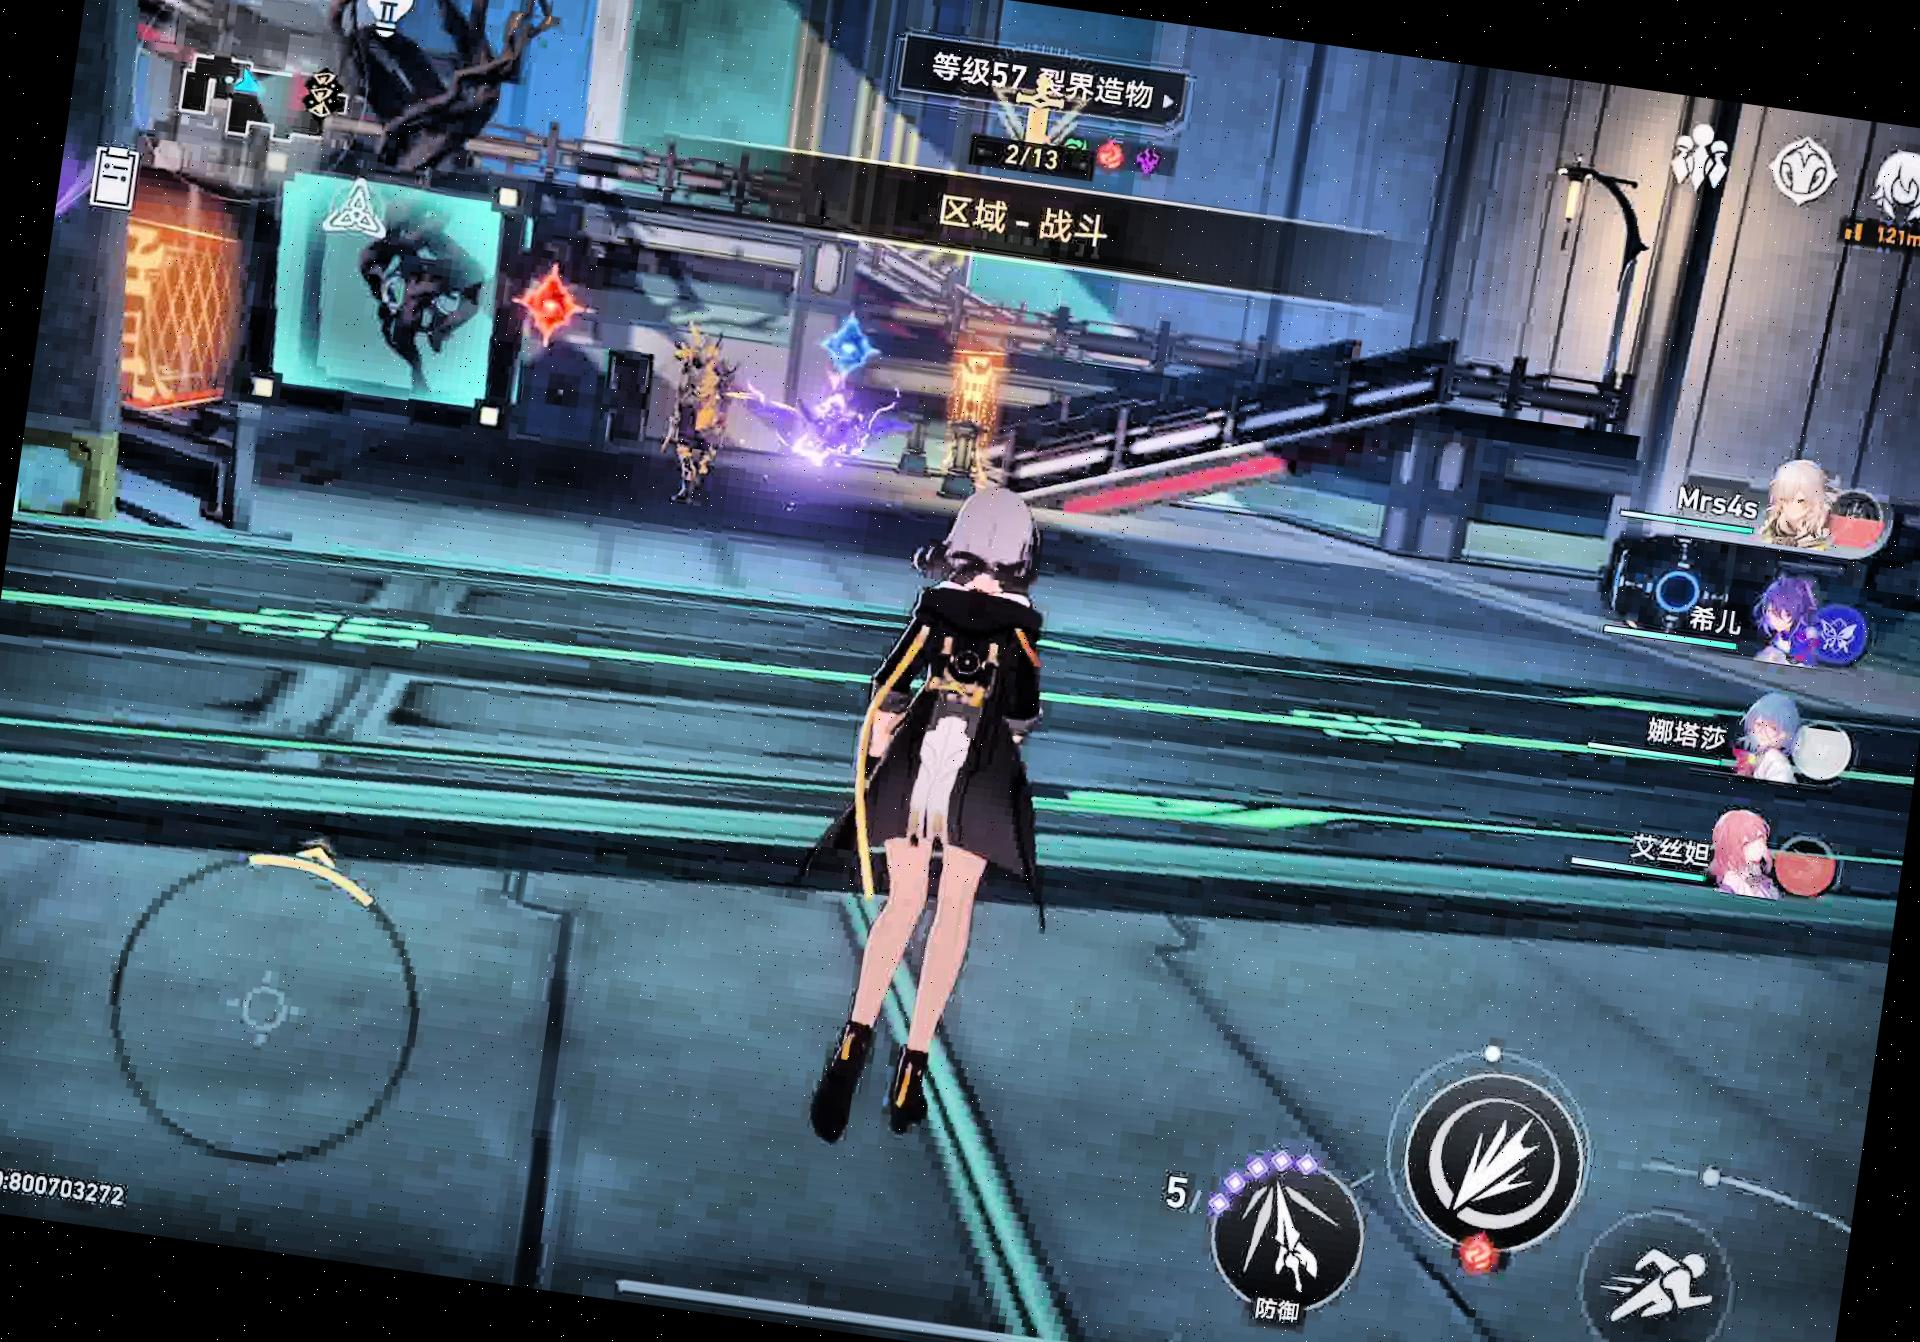BattleDoor: (502, 263, 605, 362)
Enemy: (652, 331, 751, 503), (754, 382, 887, 493)
EventDoor: (816, 314, 889, 382)
Self: (786, 489, 1094, 1170)
